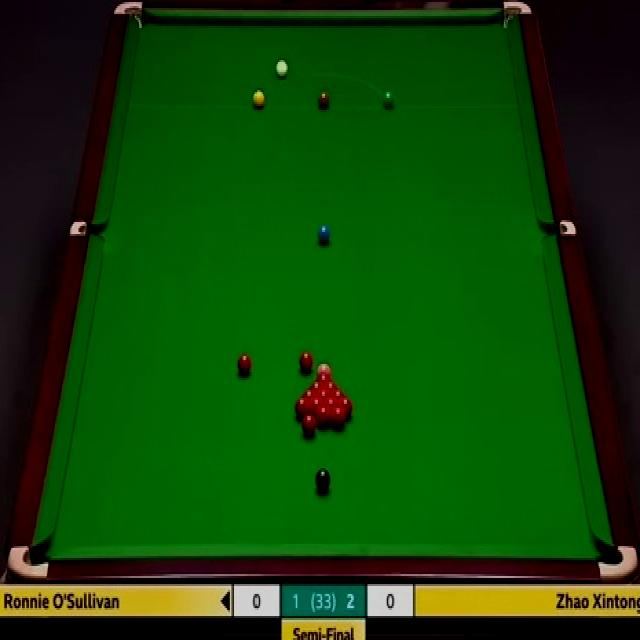black-ball: (315, 467, 331, 493)
blue-ball: (317, 224, 330, 242)
brown-ball: (317, 92, 330, 109)
green-ball: (382, 88, 396, 112)
pink-ball: (317, 363, 332, 380)
red-ball: (332, 404, 346, 433), (294, 395, 310, 419), (299, 351, 314, 375), (238, 353, 252, 378), (316, 405, 331, 426), (301, 416, 316, 436), (338, 398, 353, 418), (310, 398, 324, 416), (316, 389, 332, 404), (324, 378, 337, 394), (301, 388, 315, 402), (310, 379, 323, 394), (325, 399, 339, 411), (332, 390, 346, 400)
white-ball: (275, 60, 287, 79)
yellow-ball: (252, 89, 266, 110)
